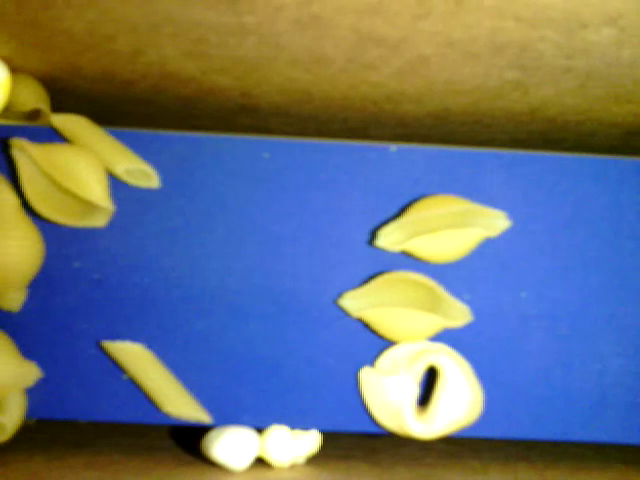penne: (100, 340, 214, 423), (47, 117, 162, 188)
shell: (332, 268, 475, 347), (368, 191, 514, 267), (7, 135, 113, 229), (1, 175, 47, 312), (2, 331, 45, 448), (1, 69, 53, 128)
tortellini: (356, 342, 482, 444)
